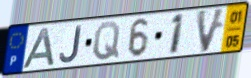1: (170, 12, 185, 56)
6: (127, 17, 151, 59)
A: (20, 26, 57, 70)
J: (58, 24, 83, 65)
Q: (92, 20, 122, 62)
V: (195, 6, 228, 55)
